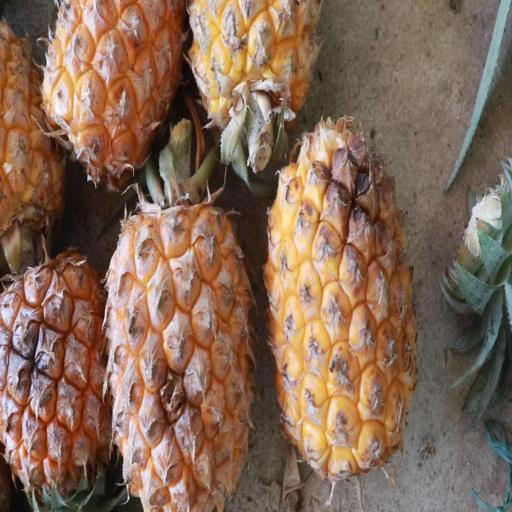Pineapple - v8 v1: (260, 110, 424, 490), (95, 164, 256, 512), (0, 245, 118, 512), (36, 0, 190, 187), (185, 0, 326, 156)
